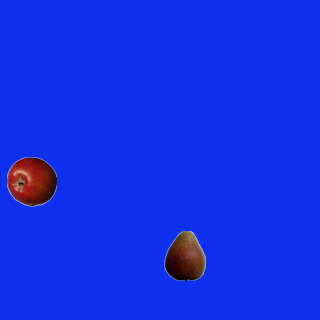Apple Braeburn: (6, 156, 56, 206)
Pear Forelle: (159, 230, 209, 280)
